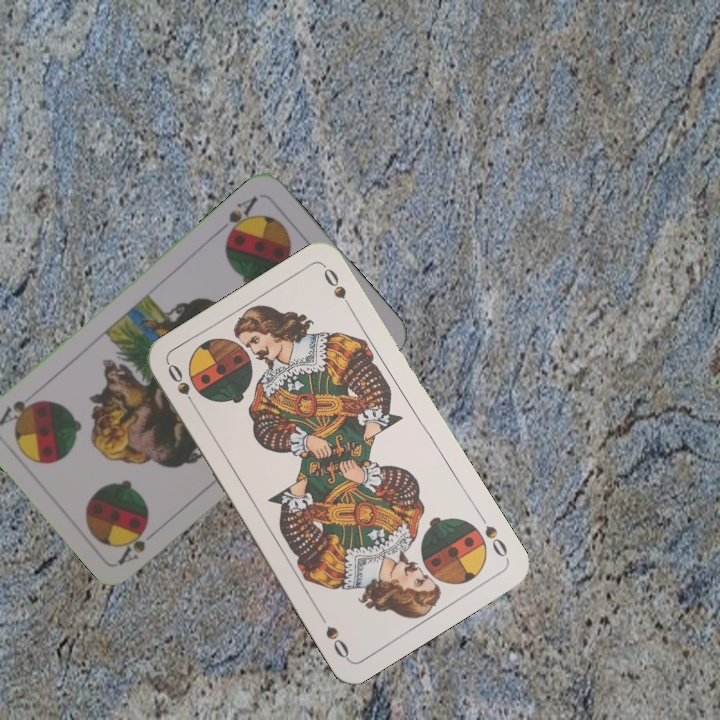SA: (213, 192, 261, 242), (114, 522, 151, 567)
SO: (163, 359, 200, 413), (474, 509, 511, 562)
